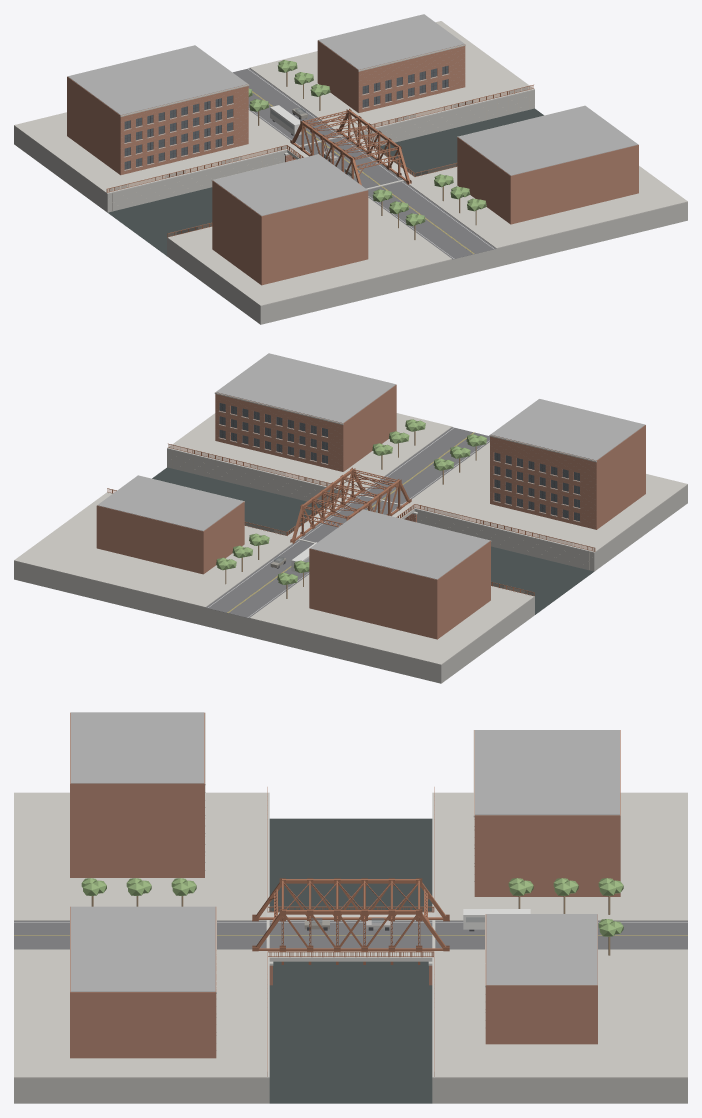
The model's file is clay-steel-truss-road-bridge-clay-v001.glb.
3 renders of one model, top to bottom at view 1: azimuth 30°, elevation 25°; view 2: azimuth 150°, elevation 25°; view 3: azimuth 270°, elevation 25°, orthographic. The views are drawn at different scales.
Visible parts, largest first — view 1: CLAY_WALL, CLAY_PAVING, CLAY_ROOF, CLAY_QUAY, CLAY_ASPHALT, CLAY_WATER, CLAY_STEEL, CLAY_GLASS, CLAY_DARK, CLAY_PLANTING, CLAY_CONCRETE, CLAY_STONE (+2 smaller); view 2: CLAY_WALL, CLAY_PAVING, CLAY_ROOF, CLAY_QUAY, CLAY_WATER, CLAY_ASPHALT, CLAY_STEEL, CLAY_DARK, CLAY_GLASS, CLAY_PLANTING, CLAY_CONCRETE, CLAY_STONE (+1 smaller); view 3: CLAY_PAVING, CLAY_ROOF, CLAY_WALL, CLAY_WATER, CLAY_QUAY, CLAY_ASPHALT, CLAY_STEEL, CLAY_CONCRETE, CLAY_PLANTING, CLAY_GUSSET, CLAY_STEEL2, CLAY_BUS (+1 smaller).
Part boxes in pixels (<box>): CLAY_WALL: <box>67,40,638,285</box>; CLAY_PAVING: <box>14,21,687,306</box>; CLAY_ROOF: <box>68,14,638,215</box>; CLAY_QUAY: <box>14,90,687,324</box>; CLAY_ASPHALT: <box>233,68,495,259</box>; CLAY_WATER: <box>108,108,543,255</box>; CLAY_STEEL: <box>106,84,533,237</box>; CLAY_GLASS: <box>124,66,448,173</box>; CLAY_DARK: <box>124,66,448,174</box>; CLAY_PLANTING: <box>248,60,486,226</box>; CLAY_CONCRETE: <box>107,88,534,237</box>; CLAY_STONE: <box>120,44,584,181</box>; CLAY_WALL: <box>96,384,645,639</box>; CLAY_PAVING: <box>14,413,687,665</box>; CLAY_ROOF: <box>97,353,645,579</box>; CLAY_QUAY: <box>14,449,687,683</box>; CLAY_WATER: <box>152,467,593,614</box>; CLAY_ASPHALT: <box>205,427,489,618</box>; CLAY_STEEL: <box>107,443,595,596</box>; CLAY_DARK: <box>219,403,579,568</box>; CLAY_GLASS: <box>219,403,579,562</box>; CLAY_PLANTING: <box>216,419,486,584</box>; CLAY_CONCRETE: <box>107,447,594,596</box>; CLAY_STONE: <box>144,392,596,541</box>; CLAY_PAVING: <box>14,792,687,1078</box>; CLAY_ROOF: <box>70,712,619,991</box>; CLAY_WALL: <box>70,712,620,1058</box>; CLAY_WATER: <box>269,818,432,1103</box>; CLAY_QUAY: <box>14,1078,687,1103</box>; CLAY_ASPHALT: <box>14,921,687,949</box>; CLAY_STEEL: <box>255,787,446,1076</box>; CLAY_CONCRETE: <box>266,792,435,1078</box>; CLAY_PLANTING: <box>81,878,623,936</box>; CLAY_GUSSET: <box>252,878,449,951</box>; CLAY_STEEL2: <box>252,882,449,964</box>; CLAY_BUS: <box>463,909,530,929</box>.
Bounding box in the file's own units: 120 × 23.75 × 120.
